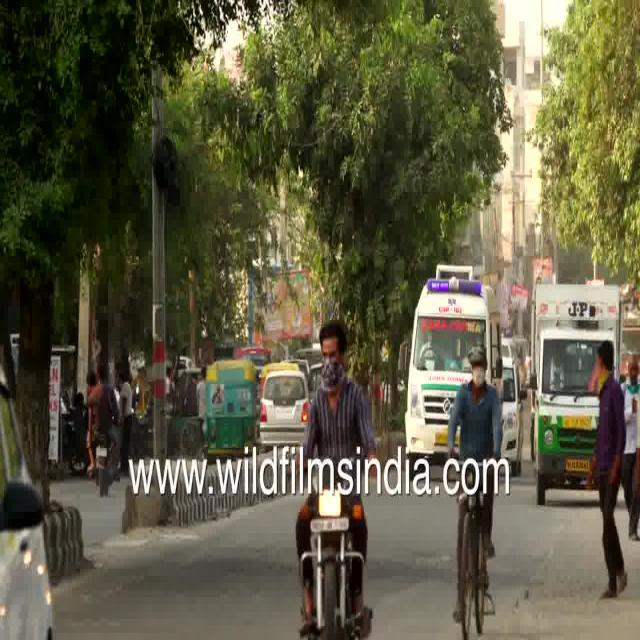ambulance: (404, 260, 498, 459)
